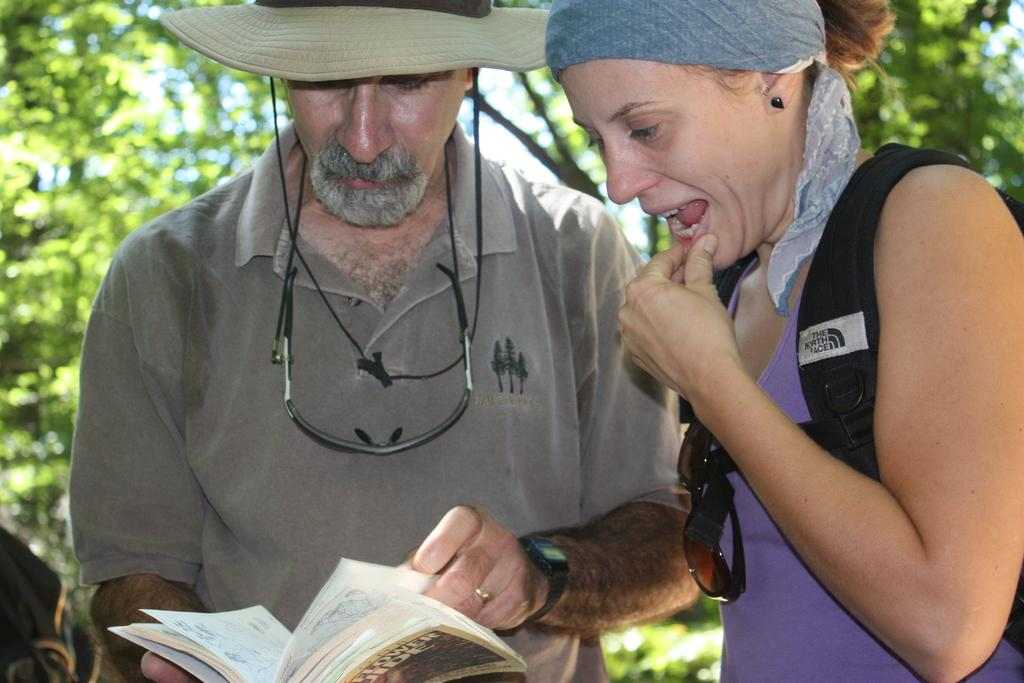no_helmet: (132, 117, 558, 210), (524, 118, 870, 201)
none: (47, 189, 705, 566), (561, 185, 1024, 566)
